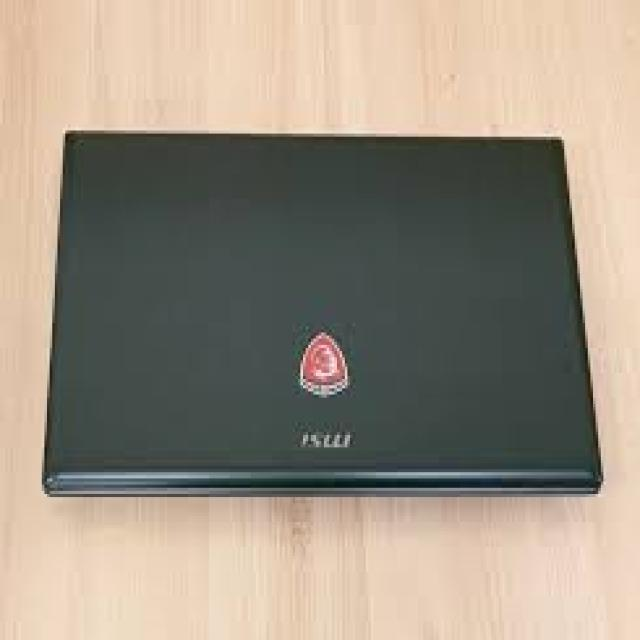laptop: (39, 127, 604, 497)
